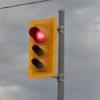Traffic light: (23, 10, 65, 88)
